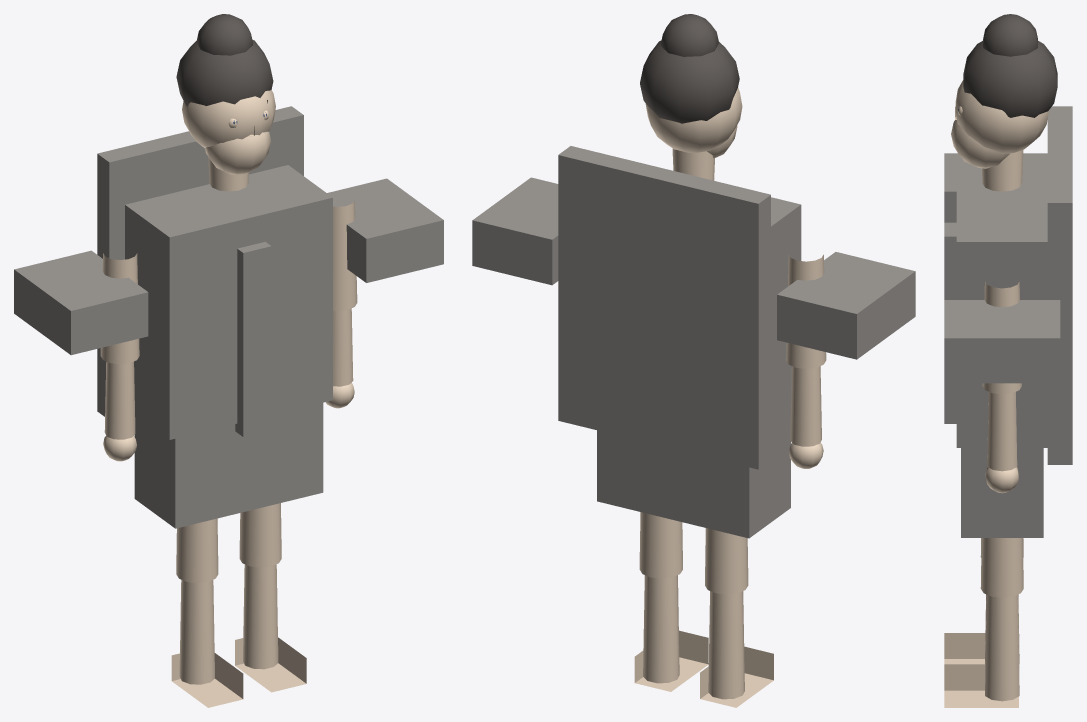
Rendered from body.glb.
3 renders of one model, left to right at view 1: azimuth 30°, elevation 25°; view 2: azimuth 150°, elevation 25°; view 3: azimuth 270°, elevation 25°, orthographic. The views are drawn at different scales.
Visible parts, largest first — view 1: Cloth, Skin, Hair; view 2: Cloth, Skin, Hair; view 3: Cloth, Skin, Hair.
Boxes of the visible parts, bbox=[...] form: Cloth: bbox=[14, 106, 443, 528]; Skin: bbox=[100, 90, 357, 707]; Hair: bbox=[176, 14, 273, 106]; Cloth: bbox=[472, 146, 915, 538]; Skin: bbox=[634, 87, 826, 707]; Hair: bbox=[640, 14, 739, 123]; Cloth: bbox=[944, 106, 1072, 537]; Skin: bbox=[944, 80, 1048, 707]; Hair: bbox=[963, 14, 1057, 117].
Size of the model in its own units: 1.06 by 1.78 by 0.31.
